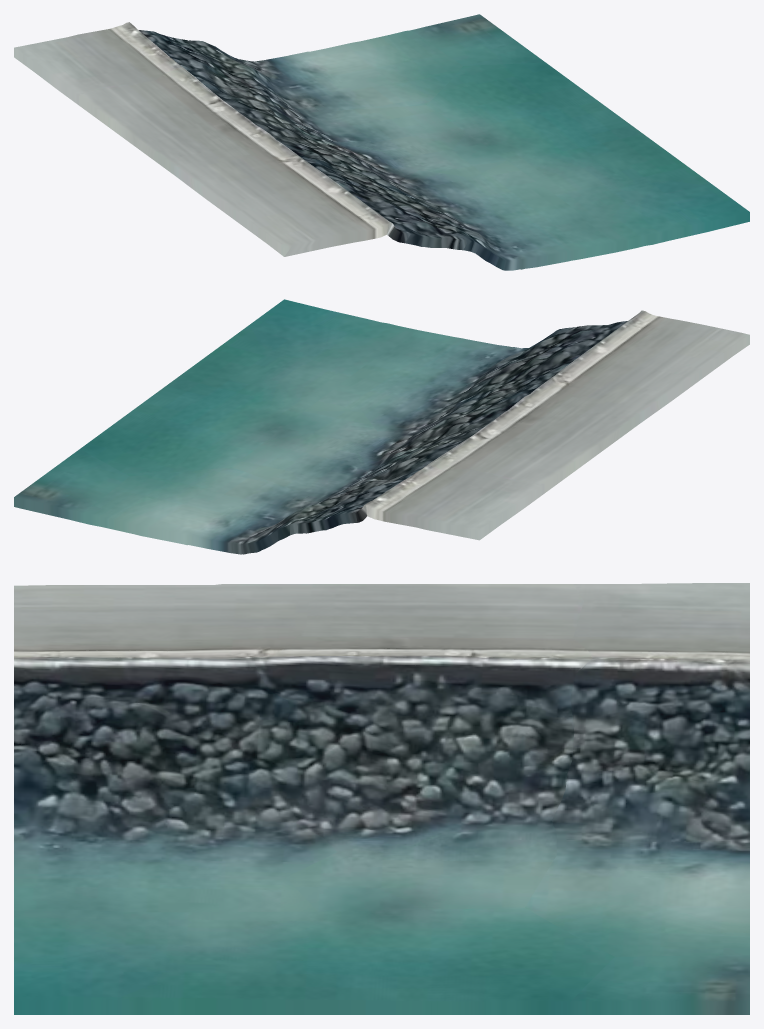
The model's file is z20-167556-405170-h0-yup-uvflip-v3-world.glb.
3 renders of one model, top to bottom at view 1: azimuth 30°, elevation 25°; view 2: azimuth 150°, elevation 25°; view 3: azimuth 270°, elevation 25°, orthographic. The views are drawn at different scales.
Size of the model in its own units: 30.16 by 5.56 by 30.32.
1 material, 1 textured.
